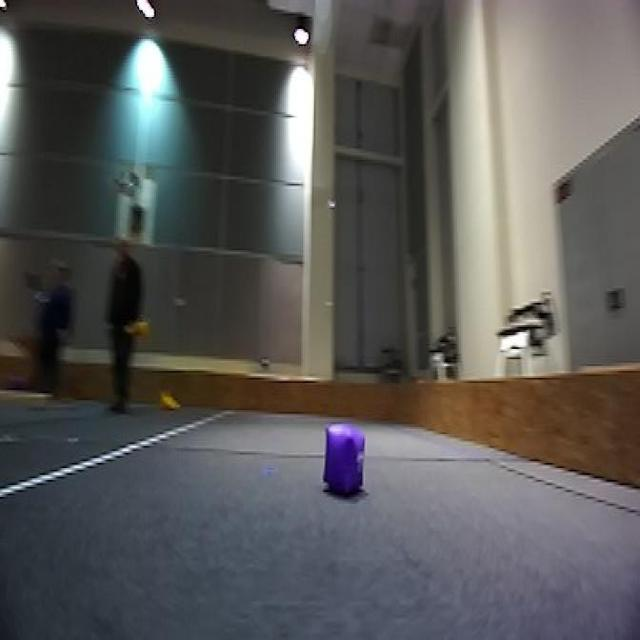frc_cone: (126, 313, 153, 346), (157, 388, 179, 412)
frc_cube: (322, 422, 367, 497)
